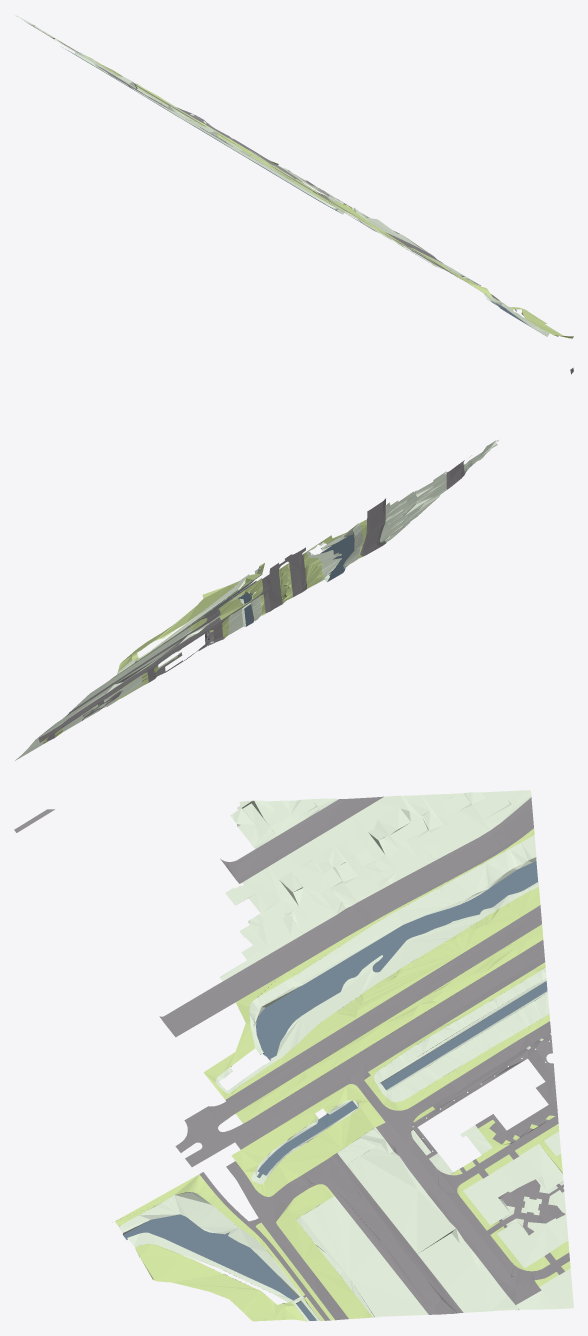
The picture shows the model from 3 angles, top to bottom: view 1: azimuth 30°, elevation 25°; view 2: azimuth 150°, elevation 25°; view 3: azimuth 270°, elevation 25°; orthographic projection. The views are drawn at different scales.
Size of the model in its own units: 208 by 157 by 241.
